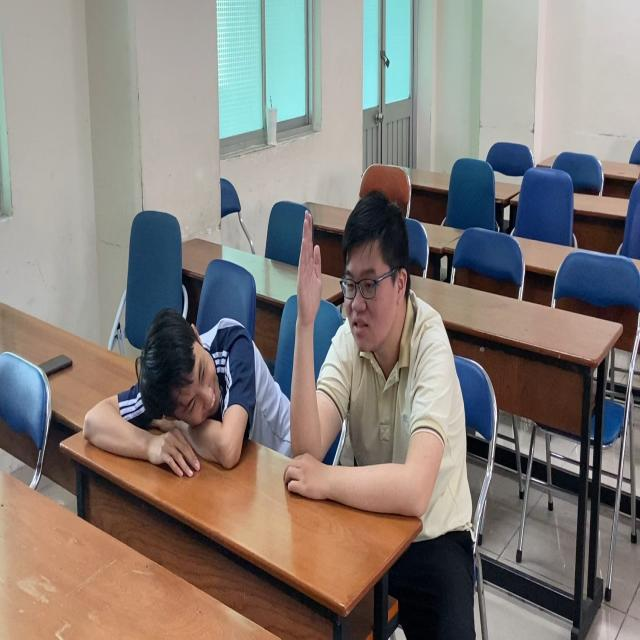raise_hand: (292, 199, 461, 520)
sleep: (89, 308, 273, 466)
